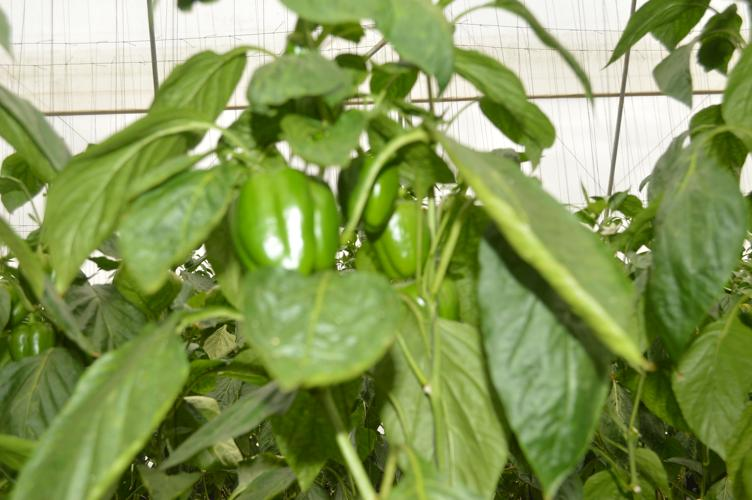BellPepper: (218, 161, 341, 293), (355, 195, 430, 286), (331, 144, 391, 232)
